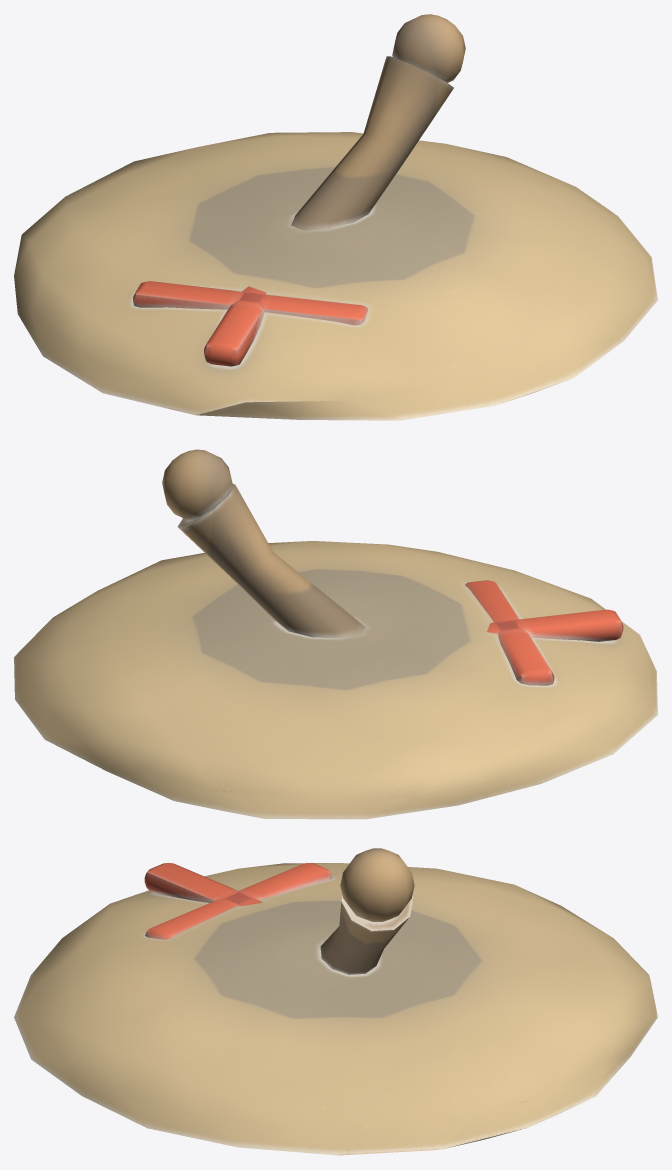
Rendered from node_buried.glb.
3 views of the same model, one above another, from view 1: azimuth 30°, elevation 25°; view 2: azimuth 150°, elevation 25°; view 3: azimuth 270°, elevation 25° (orthographic). The views are drawn at different scales.
Parts seen in each view (by area): view 1: SM_NodeBuried; view 2: SM_NodeBuried; view 3: SM_NodeBuried.
Part boxes in pixels (x1=…): SM_NodeBuried: x1=14, y1=14, x2=657, y2=420; SM_NodeBuried: x1=14, y1=449, x2=657, y2=819; SM_NodeBuried: x1=14, y1=848, x2=657, y2=1155.
Size of the model in its own units: 1.32 by 0.5064 by 1.3.
Materials: 1 (1 with a texture image).
